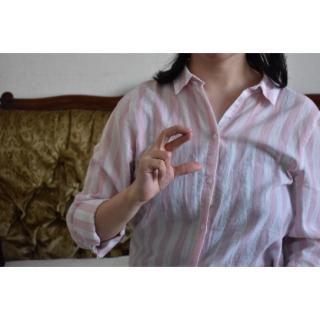DHELL: (134, 119, 203, 212)
